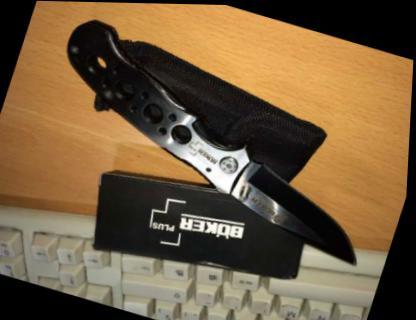knife: (199, 133, 394, 270)
